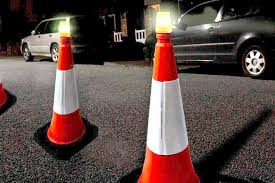cones: (115, 12, 218, 183), (31, 22, 100, 154)
